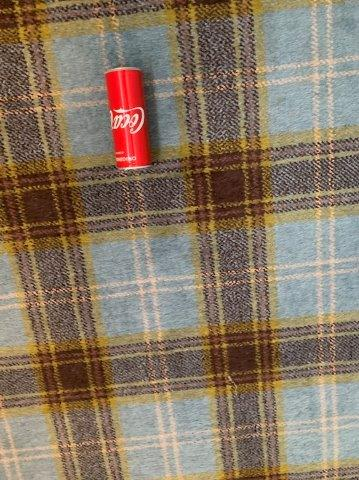kaleng: (105, 67, 153, 168)
